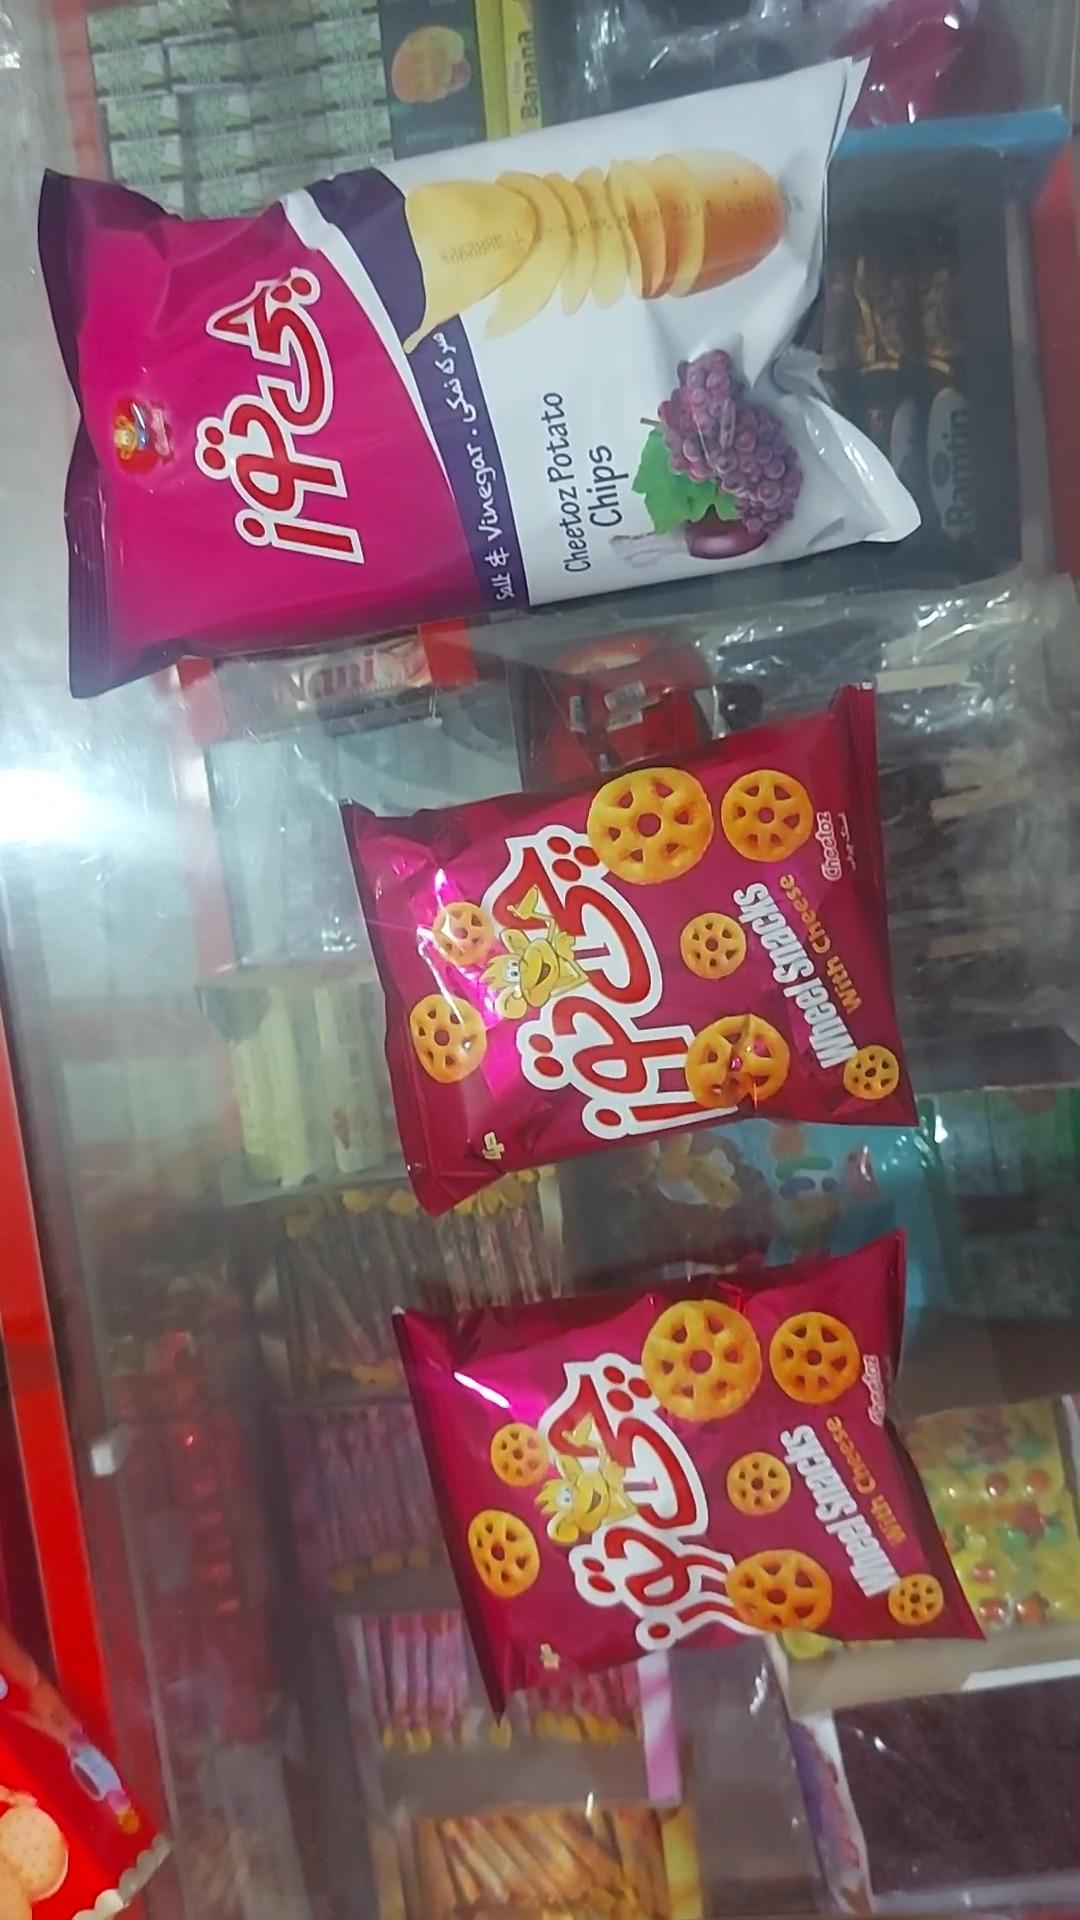Cheetoz vinegar chips: (34, 55, 920, 702)
Cheetoz wheelsnack: (340, 686, 920, 1220), (392, 1232, 986, 1713)
